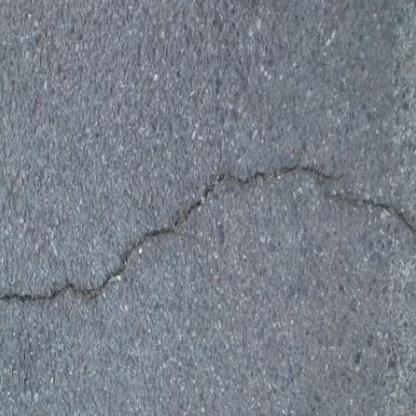Cracks: (0, 164, 349, 309), (326, 193, 416, 242)
